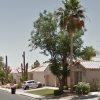Tree: (28, 1, 92, 71)
